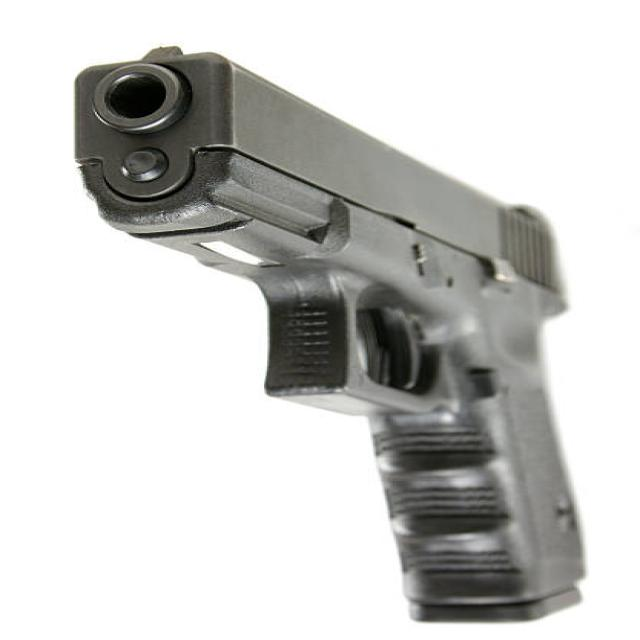pistol: (67, 40, 611, 629)
